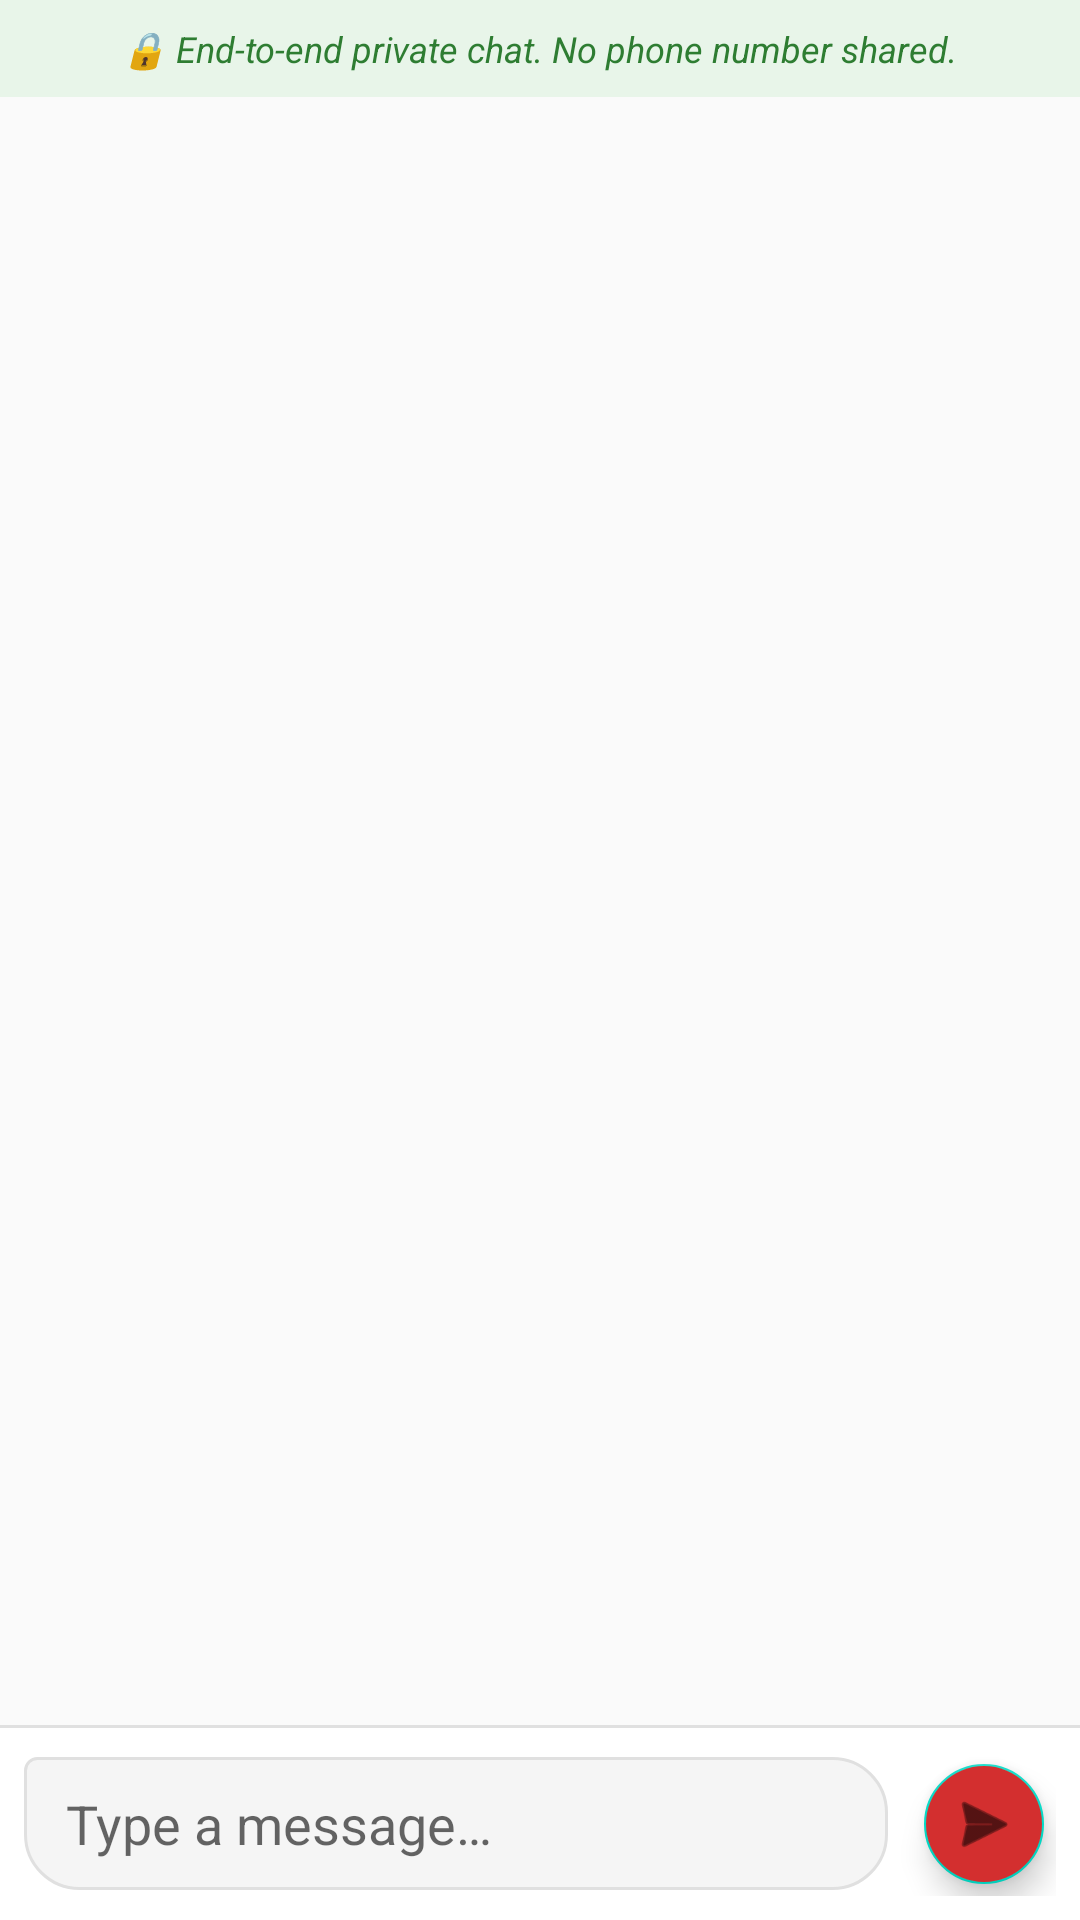

Screen size 1080 x 1920. Icon name, then its box in pixels as rect(x1, y1, x2, y2):
Send: rect(924, 1764, 1047, 1896)
